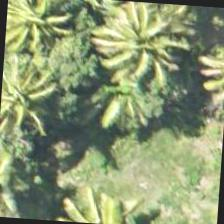Kelapa_Sawit: (88, 43, 184, 138), (99, 0, 196, 91), (3, 0, 80, 71), (0, 79, 50, 173)
